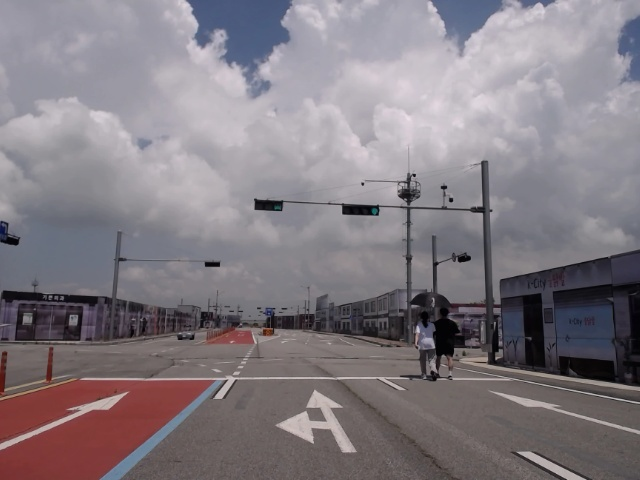straight_green_4: (343, 205, 379, 216)
